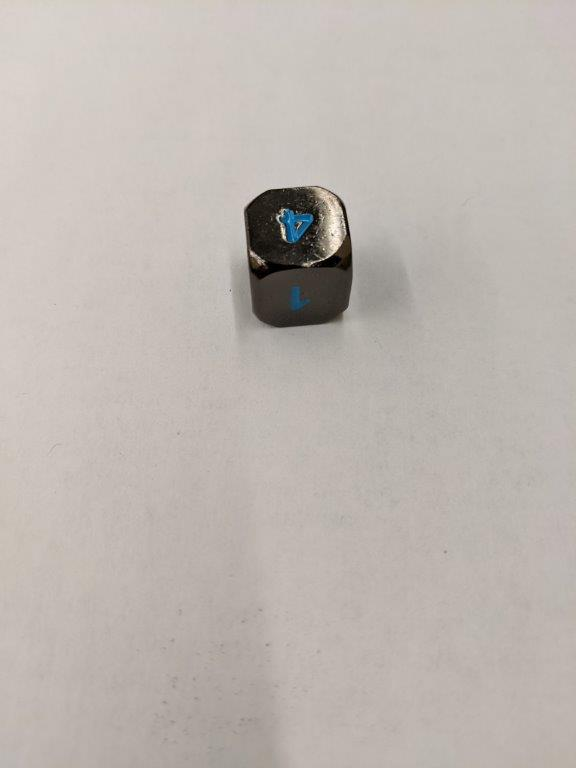d6-4: (245, 186, 355, 331)
